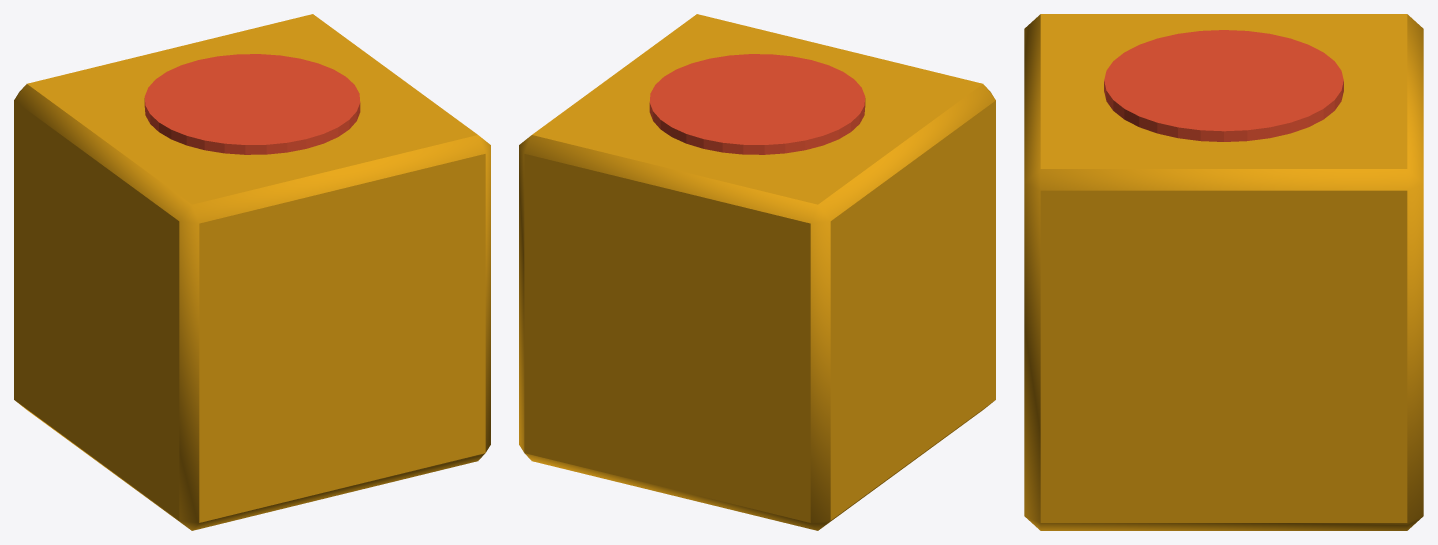
File: Button.fbx
3 renders of one model, left to right at view 1: azimuth 30°, elevation 25°; view 2: azimuth 150°, elevation 25°; view 3: azimuth 270°, elevation 25°, orthographic. The views are drawn at different scales.
Visible parts, largest first — view 1: Cube.001, Cylinder; view 2: Cube.001, Cylinder; view 3: Cube.001, Cylinder.
Boxes of the visible parts, <box> form: Cube.001: <box>14,14,490,530</box>; Cylinder: <box>144,54,360,154</box>; Cube.001: <box>519,14,995,530</box>; Cylinder: <box>649,54,865,154</box>; Cube.001: <box>1024,14,1423,530</box>; Cylinder: <box>1104,30,1343,141</box>.
Size of the model in its own units: 100 by 103 by 100.
